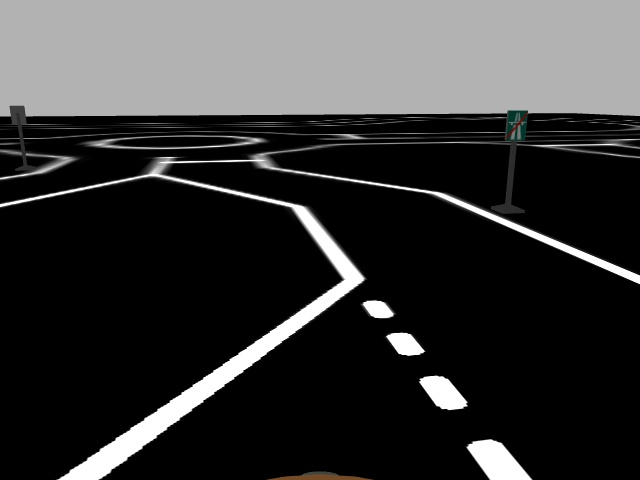leave_highway: (503, 110, 531, 142)
